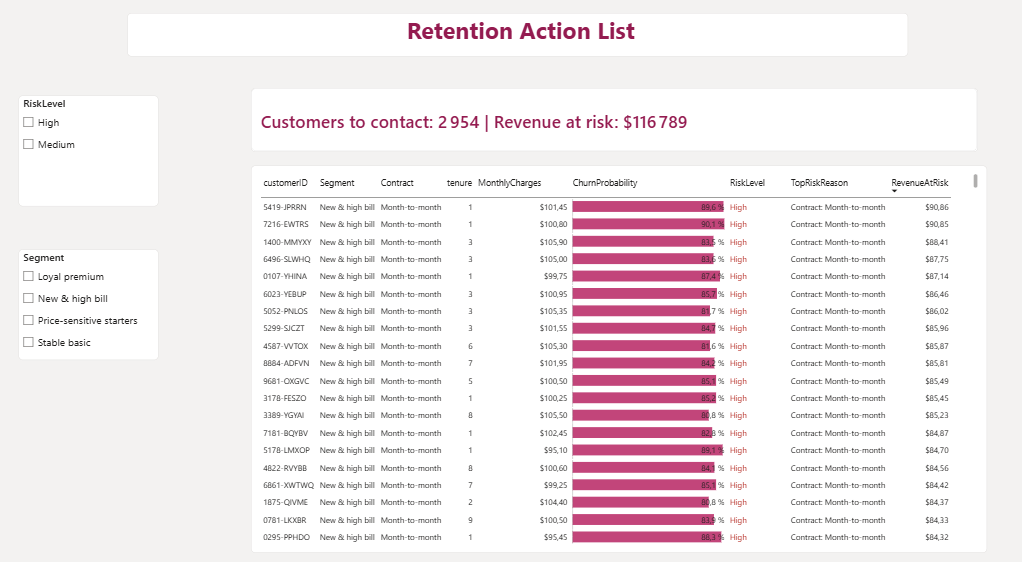

What the dashboard file says about the page in this screenshot:
{"tool":"powerbi","page":{"name":"Action list","canvas":[1920,1080],"ordinal":2},"visuals":[{"type":"textbox","box":[240.8,37,1436.7,80.3],"z":0},{"type":"slicer","fields":{"Values":["Dim Risk.RiskLevel"]},"box":[41.2,189.4,257.3,203.8],"z":1000},{"type":"slicer","fields":{"Values":["Dim Segment.Segment"]},"box":[41.2,471.4,257.3,203.8],"z":2000},{"type":"cardVisual","fields":{"Data":["_Measures.Action List Title"]},"box":[469.3,175,1337.9,117.3],"z":3000},{"type":"tableEx","fields":{"Values":["Customers.customerID","Customers.Segment","Customers.Contract","Sum(Customers.tenure)","Customers.MonthlyCharges","Customers.ChurnProbability","Customers.RiskLevel","Customers.TopRiskReason","Sum(Customers.RevenueAtRisk)"]},"box":[469.2,317.4,1354.7,713],"z":4000}]}

Visuals, with their boxes in screenshot pixels (x1, y1, x2, y2), scaled from the page's 1920x1080 canvas onto the 1022x562 screenshot:
textbox: bbox=(128, 19, 893, 61)
slicer - Dim Risk.RiskLevel: bbox=(22, 99, 159, 205)
slicer - Dim Segment.Segment: bbox=(22, 245, 159, 351)
cardVisual - _Measures.Action List Title: bbox=(250, 91, 962, 152)
tableEx - Customers.customerID x Customers.Segment: bbox=(250, 165, 971, 536)
